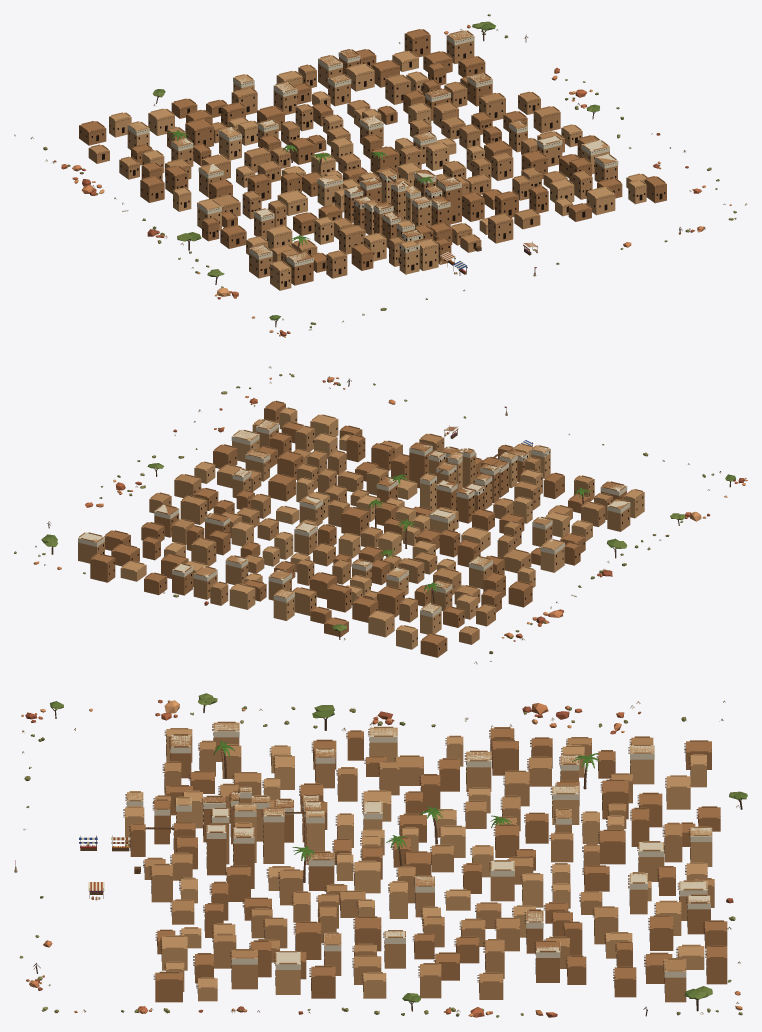
File: town.glb
The picture shows the model from 3 angles, top to bottom: view 1: azimuth 30°, elevation 25°; view 2: azimuth 150°, elevation 25°; view 3: azimuth 270°, elevation 25°; orthographic projection. The views are drawn at different scales.
Visible parts, largest first — view 1: Town; view 2: Town; view 3: Town.
Boxes of the visible parts, bbox=[...] form: Town: bbox=[14, 14, 747, 337]; Town: bbox=[14, 366, 747, 664]; Town: bbox=[14, 693, 747, 1017].
Bounding box in the file's own units: 188 × 17.3 × 182.
